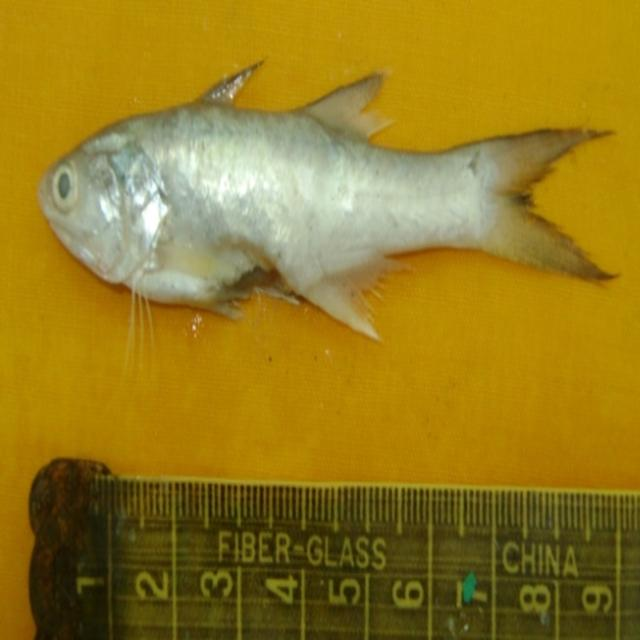Fourfinger-Threadfin: (24, 30, 638, 362)
